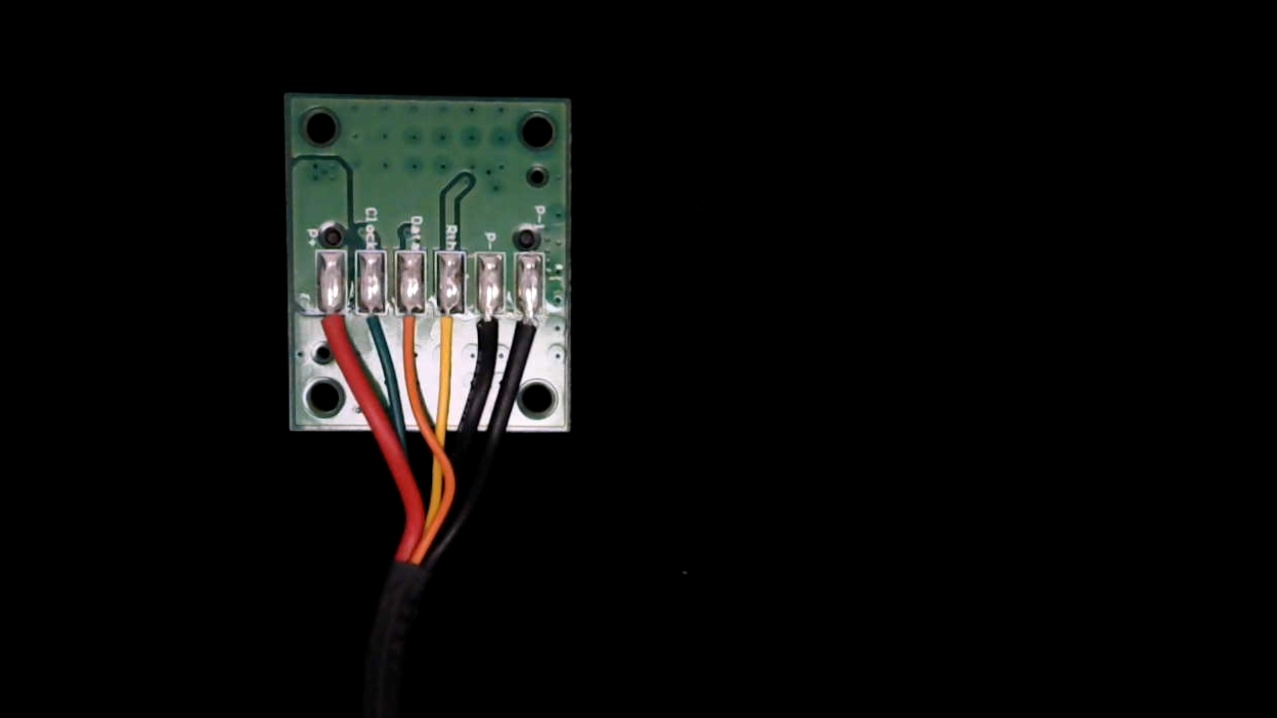Black: (475, 299, 502, 356)
Black1: (514, 300, 543, 357)
Green: (355, 295, 387, 348)
Orange: (394, 297, 427, 350)
Red: (318, 294, 344, 348)
Yellow: (433, 300, 466, 357)
